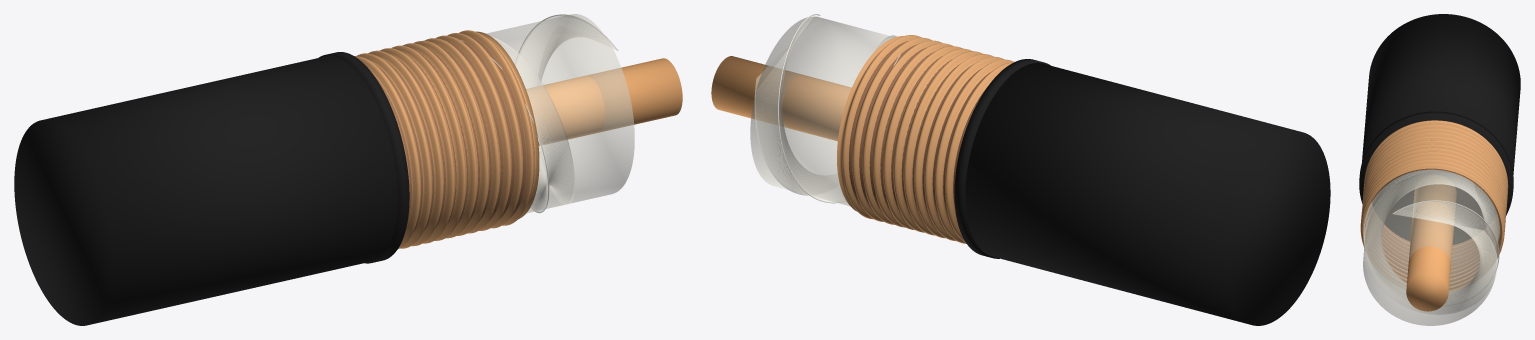
3 views of the same model, side by side, from view 1: azimuth 30°, elevation 25°; view 2: azimuth 150°, elevation 25°; view 3: azimuth 270°, elevation 25° (orthographic). The views are drawn at different scales.
Visible parts, largest first — view 1: black PE jacket body, corrugated copper shield, foam PE dielectric, solid center conductor continuous, surface PTFE tape wrap, dark groove shadow pass, jacket cut lip; view 2: black PE jacket body, corrugated copper shield, foam PE dielectric, solid center conductor continuous, dark groove shadow pass, surface PTFE tape wrap, jacket cut lip; view 3: black PE jacket body, foam PE dielectric, corrugated copper shield, surface PTFE tape wrap, solid center conductor continuous, jacket cut lip, dark groove shadow pass, subtle PTFE tape lap line.
Part boxes in pixels (<box>): black PE jacket body: <box>14,56,397,325</box>; corrugated copper shield: <box>354,30,539,248</box>; foam PE dielectric: <box>486,14,634,213</box>; solid center conductor continuous: <box>526,58,682,145</box>; surface PTFE tape wrap: <box>492,15,616,211</box>; dark groove shadow pass: <box>374,36,534,233</box>; jacket cut lip: <box>318,52,409,263</box>; black PE jacket body: <box>965,63,1330,325</box>; corrugated copper shield: <box>837,35,1014,243</box>; foam PE dielectric: <box>750,16,894,205</box>; solid center conductor continuous: <box>711,56,851,141</box>; dark groove shadow pass: <box>841,41,990,224</box>; surface PTFE tape wrap: <box>755,15,896,201</box>; jacket cut lip: <box>954,59,1050,258</box>; black PE jacket body: <box>1362,14,1520,174</box>; foam PE dielectric: <box>1363,169,1499,325</box>; corrugated copper shield: <box>1360,120,1508,292</box>; surface PTFE tape wrap: <box>1364,170,1499,314</box>; solid center conductor continuous: <box>1406,184,1456,311</box>; jacket cut lip: <box>1359,111,1513,244</box>; dark groove shadow pass: <box>1368,206,1498,289</box>; subtle PTFE tape lap line: <box>1363,200,1499,270</box>.
Size of the model in its own units: 6.69 by 2.07 by 2.17.
